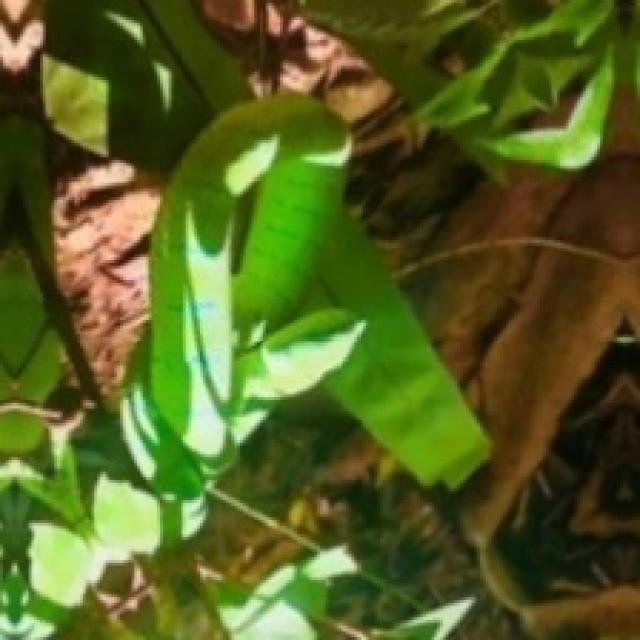north ph temple pitviper: (122, 95, 489, 538)
